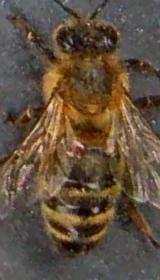varroa_mite: (58, 134, 95, 162)
